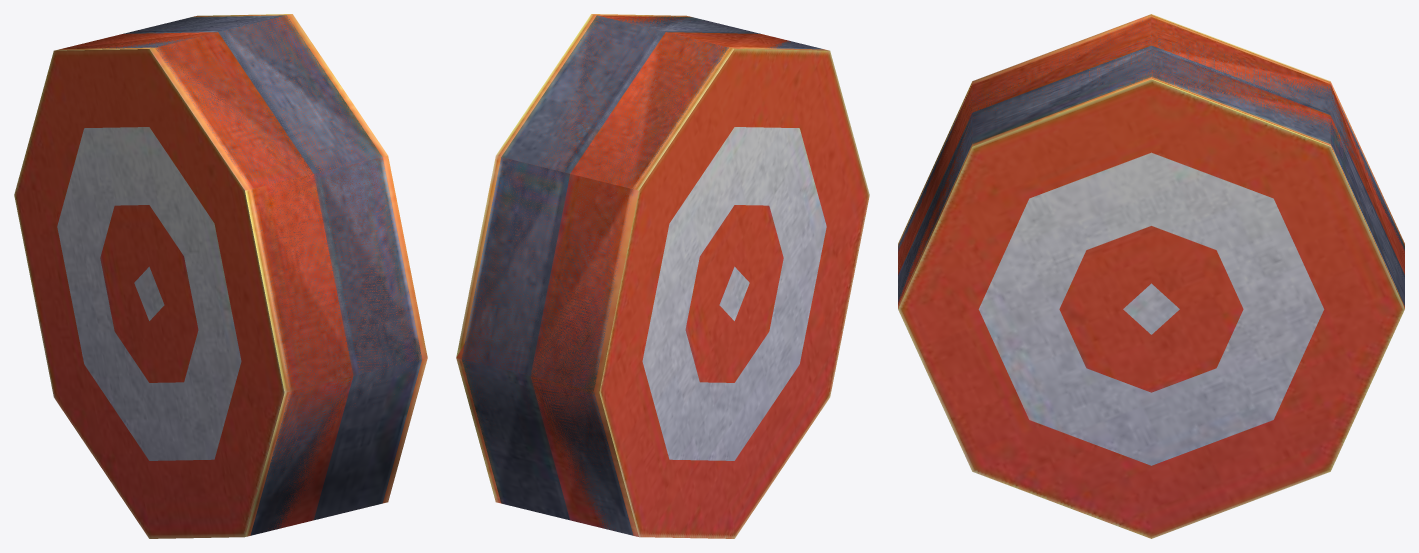
File: ziel.glb
3 renders of one model, left to right at view 1: azimuth 30°, elevation 25°; view 2: azimuth 150°, elevation 25°; view 3: azimuth 270°, elevation 25°, orthographic. The views are drawn at different scales.
Parts seen in each view (by area): view 1: ziel; view 2: ziel; view 3: ziel.
Boxes of the visible parts, x1,y1,x2,y2 form: ziel: (14,14,427,538); ziel: (456,14,869,538); ziel: (898,14,1404,538).
Size of the model in its own units: 0.2753 by 0.9 by 0.9.
Materials: 1 (1 with a texture image).
